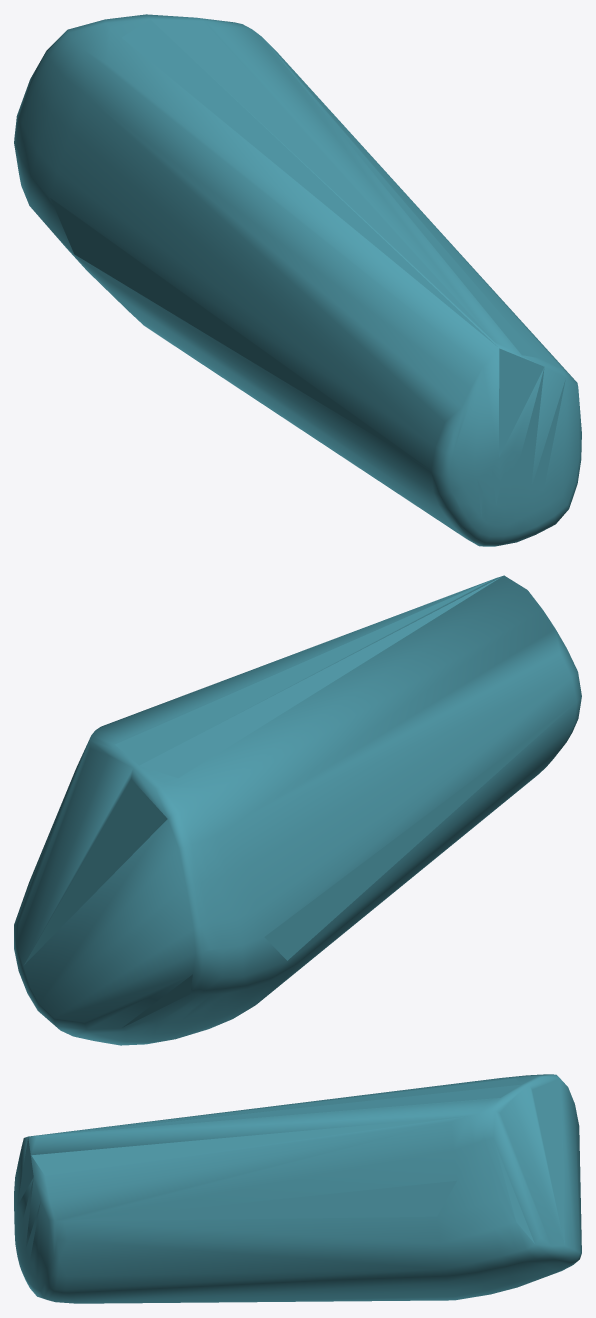
The model's file is COL_Alpha_Surface_005_convex_hull.dae.
3 renders of one model, top to bottom at view 1: azimuth 30°, elevation 25°; view 2: azimuth 150°, elevation 25°; view 3: azimuth 270°, elevation 25°, orthographic. The views are drawn at different scales.
Parts seen in each view (by area): view 1: COL_Alpha_Surface_005_convex_hull; view 2: COL_Alpha_Surface_005_convex_hull; view 3: COL_Alpha_Surface_005_convex_hull.
Part boxes in pixels (left/top/right/bottom): COL_Alpha_Surface_005_convex_hull: left=14, top=14, right=581, bottom=546; COL_Alpha_Surface_005_convex_hull: left=14, top=575, right=581, bottom=1045; COL_Alpha_Surface_005_convex_hull: left=14, top=1074, right=581, bottom=1303.
Bounding box in the file's own units: 14.44 × 42.12 × 17.14.
